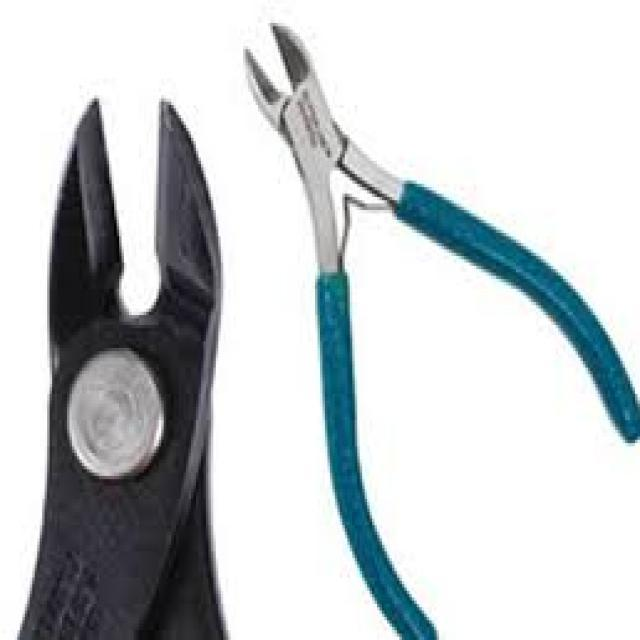pliers: (231, 10, 640, 640), (11, 84, 238, 640)
